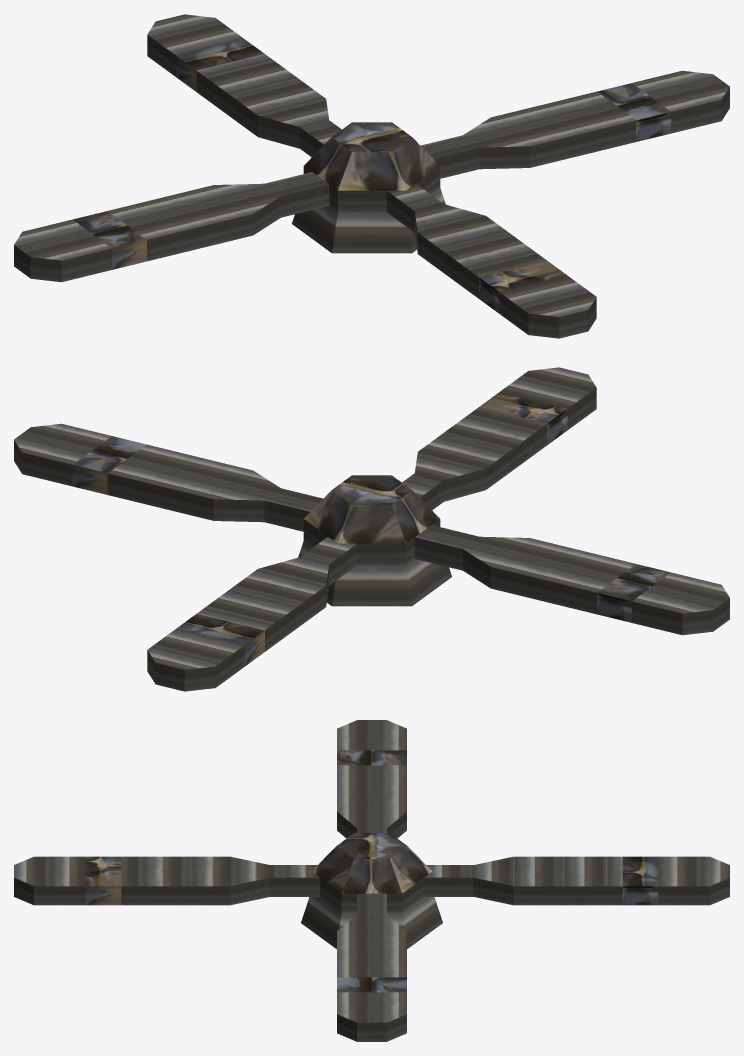
The model's file is flying_coll.obj.
3 views of the same model, one above another, from view 1: azimuth 30°, elevation 25°; view 2: azimuth 150°, elevation 25°; view 3: azimuth 270°, elevation 25° (orthographic). The views are drawn at different scales.
Visible parts, largest first — view 1: mergedBlocks; view 2: mergedBlocks; view 3: mergedBlocks.
Part boxes in pixels (<box>): mergedBlocks: <box>14,14,729,338</box>; mergedBlocks: <box>14,367,729,691</box>; mergedBlocks: <box>14,720,729,1041</box>.
Size of the model in its own units: 1.1 by 0.1305 by 1.1.
Materials: 2 (2 with a texture image).
